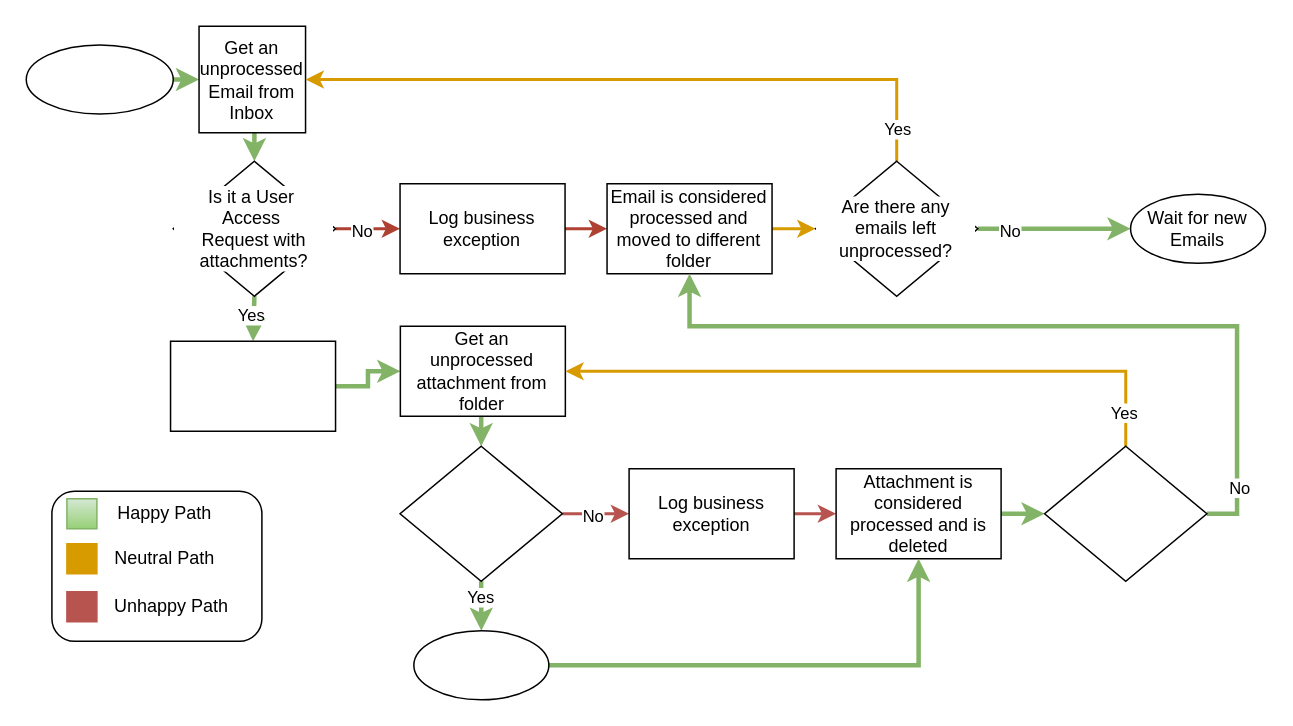
This 1293x726 diagram has some shape labels left out. Each missing label, with the centre of its shape:
"Are there any attachments left unprocessed?" goes at (x=1125, y=513).
"Create Draft Emails" goes at (x=480, y=664).
"Does it have the correct format and extension?" goes at (x=480, y=513).
"Download attachments" goes at (x=252, y=385).
"Process Inbox" goes at (x=99, y=79).
